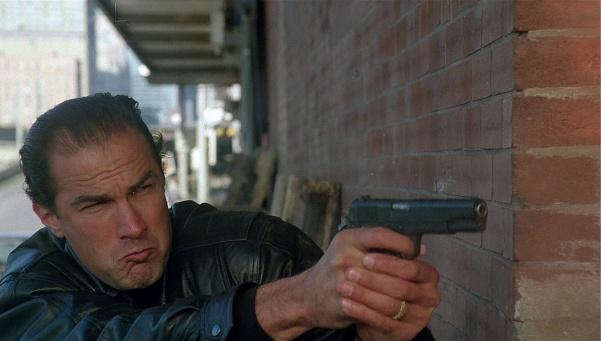Gun: (339, 194, 488, 258)
